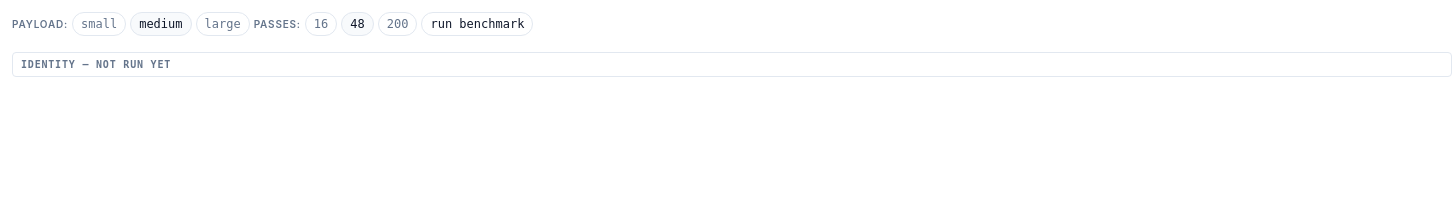
PerfBenchDemo › renders the degraded panel when the server is down
The width and height of the screenshot is (1452, 215).
What coordinates should you click on to do the following:
click the button with test id "perf-run"
I would click on:
 (477, 24)
Its box is [421, 12, 533, 36].
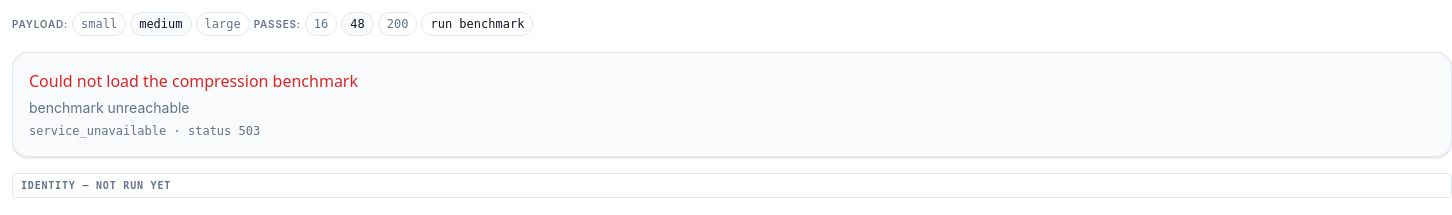
Now the message with test id "error-panel" shows "benchmark unreachable", box [29, 99, 190, 116]
